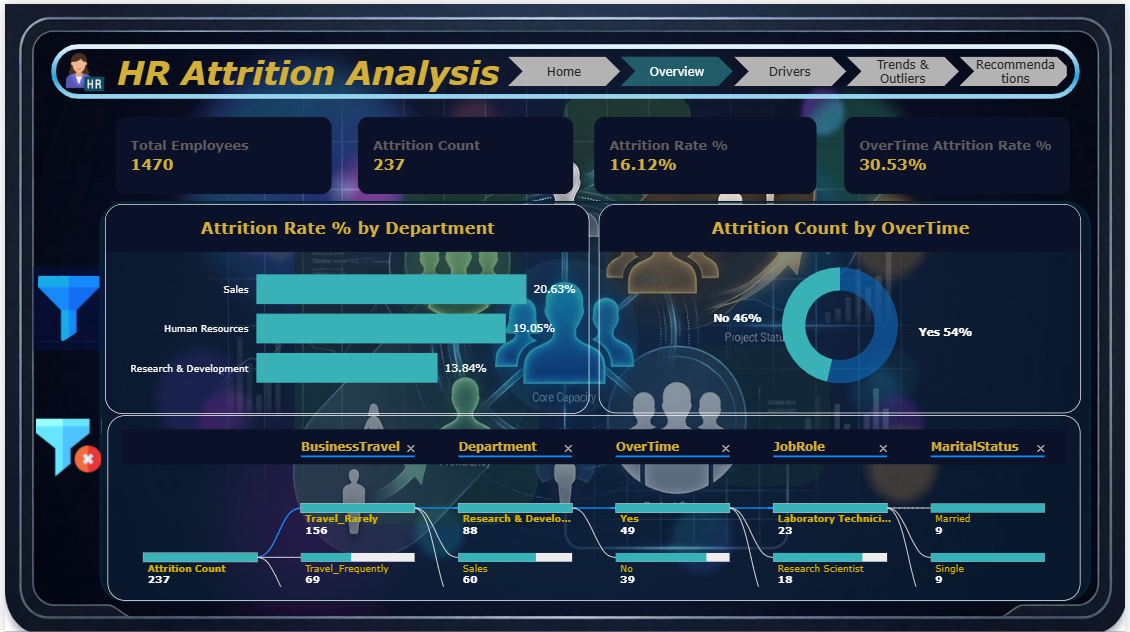

This screenshot's page, from the dashboard's own definition file:
{"tool":"powerbi","page":{"name":"Overview","canvas":[1280,720],"ordinal":1},"visuals":[{"type":"textbox","box":[123.1,49.5,451.2,56.7],"z":0},{"type":"image","box":[68.8,48.3,45.8,57.9],"z":1000},{"type":"cardVisual","fields":{"Data":["Measure.Total Employees"]},"box":[114.6,117,271.4,112.2],"z":2000},{"type":"cardVisual","fields":{"Data":["Measure.Attrition Count"]},"box":[390.9,117,270.2,112.2],"z":3000},{"type":"cardVisual","fields":{"Data":["Measure.Attrition Rate %"]},"box":[661.1,117,278.7,112.2],"z":4000},{"type":"cardVisual","fields":{"Data":["Measure.OverTime Attrition Rate %"]},"box":[947.1,117,282.3,112.2],"z":5000},{"type":"pageNavigator","box":[574.3,60.3,639.4,35],"z":6000},{"type":"clusteredBarChart","title":"Attrition Rate % by Department","fields":{"Category":["Dim_Department.Department"],"Y":["Measure.Attrition Rate %"]},"box":[114.6,228,553.7,240.1],"z":7000},{"type":"donutChart","fields":{"Category":["Dim_OverTime.OverTime"],"Y":["Measure.Attrition Count"]},"box":[678,229.2,551.3,238.9],"z":8000},{"type":"decompositionTreeVisual","fields":{"Analyze":["Measure.Attrition Count"],"ExplainBy":["Dim_BusinessTravel.BusinessTravel","Dim_Department.Department","Dim_OverTime.OverTime","Dim_JobRole.JobRole","Dim_MaritalStatus.MaritalStatus"]},"box":[117,470.5,1112.3,212.3],"z":9000},{"type":"actionButton","title":"clear Filter","box":[31.4,447.1,82.9,120],"z":11000},{"type":"actionButton","title":"Filter Button","box":[31.4,300,82.9,95.7],"z":11500}]}

Visuals, with their boxes in screenshot pixels (x1, y1, x2, y2), scaled from the page's 1280x720 canvas onto the 1130x632 screenshot:
textbox: crop(109, 43, 507, 93)
image: crop(61, 42, 101, 93)
cardVisual - Measure.Total Employees: crop(101, 103, 341, 201)
cardVisual - Measure.Attrition Count: crop(345, 103, 584, 201)
cardVisual - Measure.Attrition Rate %: crop(584, 103, 830, 201)
cardVisual - Measure.OverTime Attrition Rate %: crop(836, 103, 1085, 201)
pageNavigator: crop(507, 53, 1071, 84)
"Attrition Rate % by Department" clusteredBarChart: crop(101, 200, 590, 411)
donutChart - Dim_OverTime.OverTime x Measure.Attrition Count: crop(599, 201, 1085, 411)
decompositionTreeVisual - Measure.Attrition Count x Dim_BusinessTravel.BusinessTravel: crop(103, 413, 1085, 599)
"clear Filter" actionButton: crop(28, 392, 101, 498)
"Filter Button" actionButton: crop(28, 263, 101, 347)
